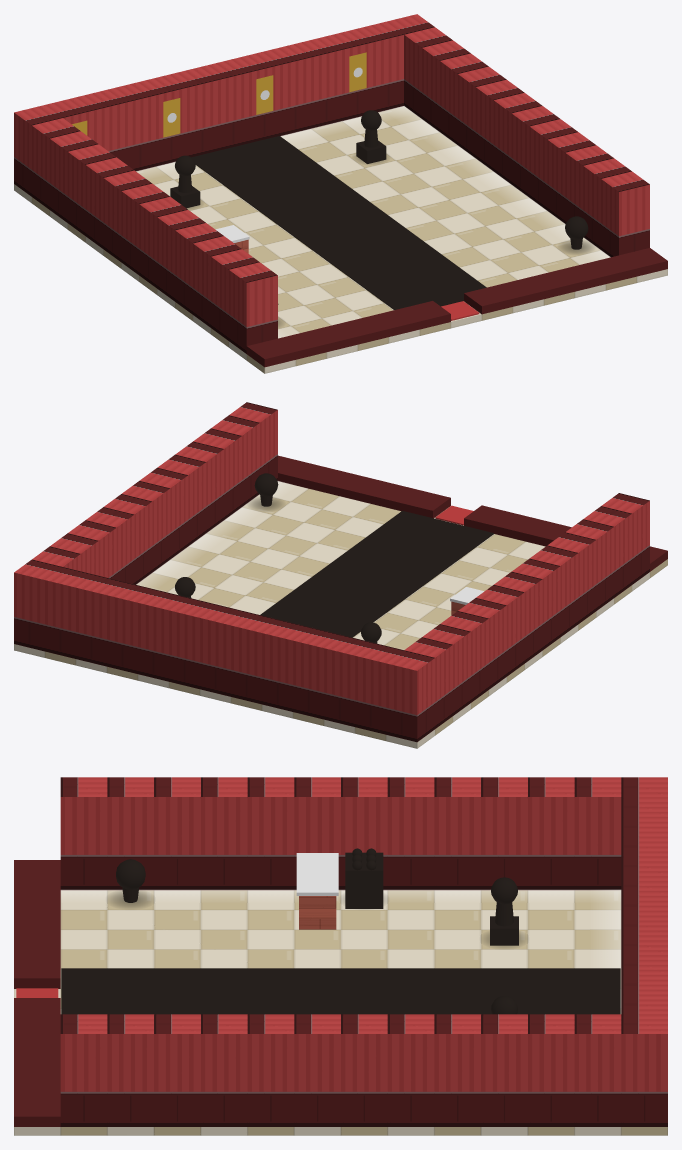
The model's file is liga.glb.
3 renders of one model, top to bottom at view 1: azimuth 30°, elevation 25°; view 2: azimuth 150°, elevation 25°; view 3: azimuth 270°, elevation 25°, orthographic. The views are drawn at different scales.
Parts seen in each view (by area): view 1: malha__semsombra (×53), malha__contorno (×2); view 2: malha__semsombra (×46), malha__contorno; view 3: malha__semsombra (×52), malha__contorno (×5), mapa_liga.
Boxes of the visible parts, x1=… form: malha__semsombra (×53): x1=14, y1=14, x2=667, y2=373; malha__contorno (×2): x1=191, y1=136, x2=486, y2=309; malha__semsombra (×46): x1=14, y1=402, x2=667, y2=748; malha__contorno: x1=260, y1=511, x2=493, y2=637; malha__semsombra (×52): x1=14, y1=777, x2=667, y2=1135; malha__contorno (×5): x1=61, y1=852, x2=620, y2=1014; mapa_liga: x1=299, y1=896, x2=336, y2=929.
Bounding box in the file's own units: 13 × 2.4 × 14.
22 materials, 9 textured.
